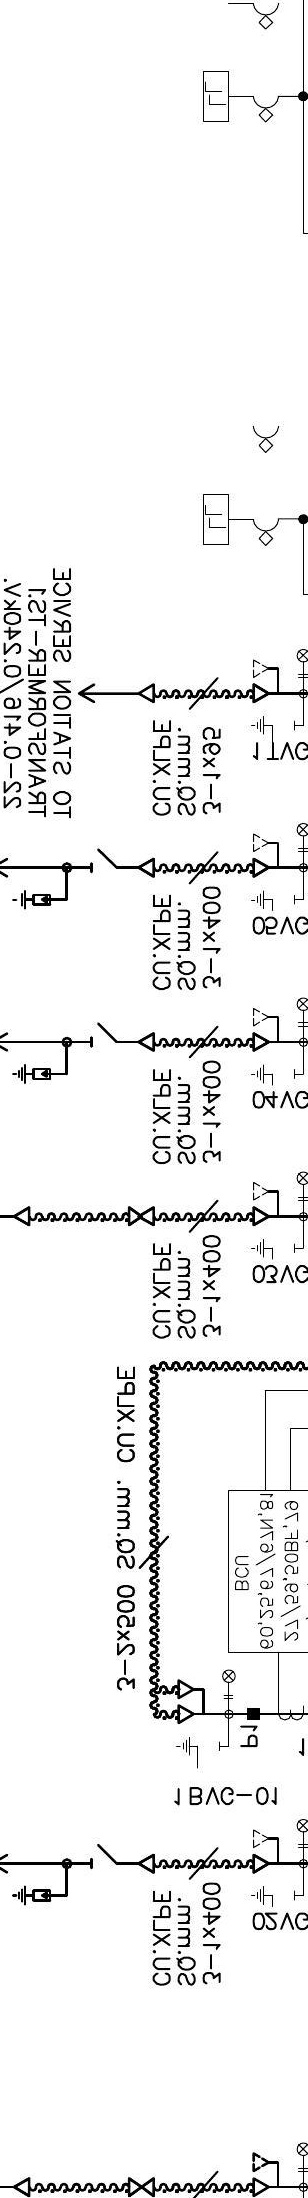22_gs: (176, 1735, 221, 1769), (251, 716, 297, 744), (251, 1884, 297, 1909), (251, 1238, 297, 1262), (251, 1064, 297, 1086), (251, 890, 297, 913)
22_ll: (221, 1668, 237, 1700)
LL: (202, 69, 231, 123), (202, 492, 230, 547)
terminator_double: (176, 1678, 206, 1726)
terminator_single: (137, 681, 157, 704), (137, 856, 157, 879), (137, 1030, 157, 1053), (14, 1204, 32, 1228), (137, 1852, 155, 1876)
terminator_splicing_kits: (127, 2177, 155, 2198), (127, 1206, 155, 1227)
terminator_w_future: (252, 1005, 281, 1053), (252, 657, 281, 705), (251, 1828, 280, 1874), (252, 833, 281, 879), (252, 1180, 280, 1227)
